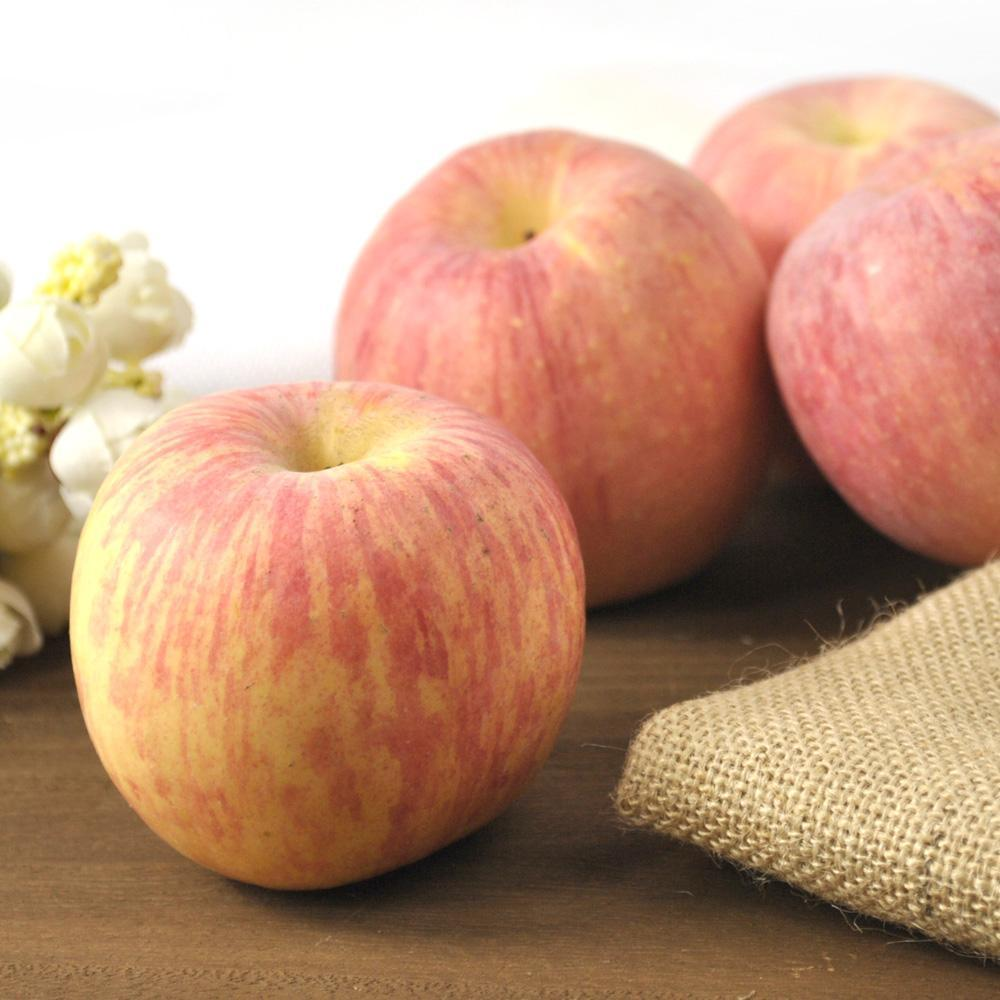apple: (69, 388, 595, 899), (498, 102, 964, 592), (335, 128, 787, 614), (750, 146, 992, 575), (682, 74, 998, 278)
